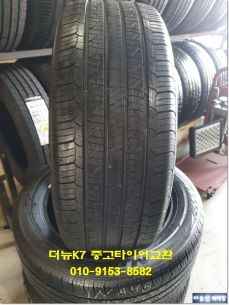middle_condition: (58, 1, 171, 248)
